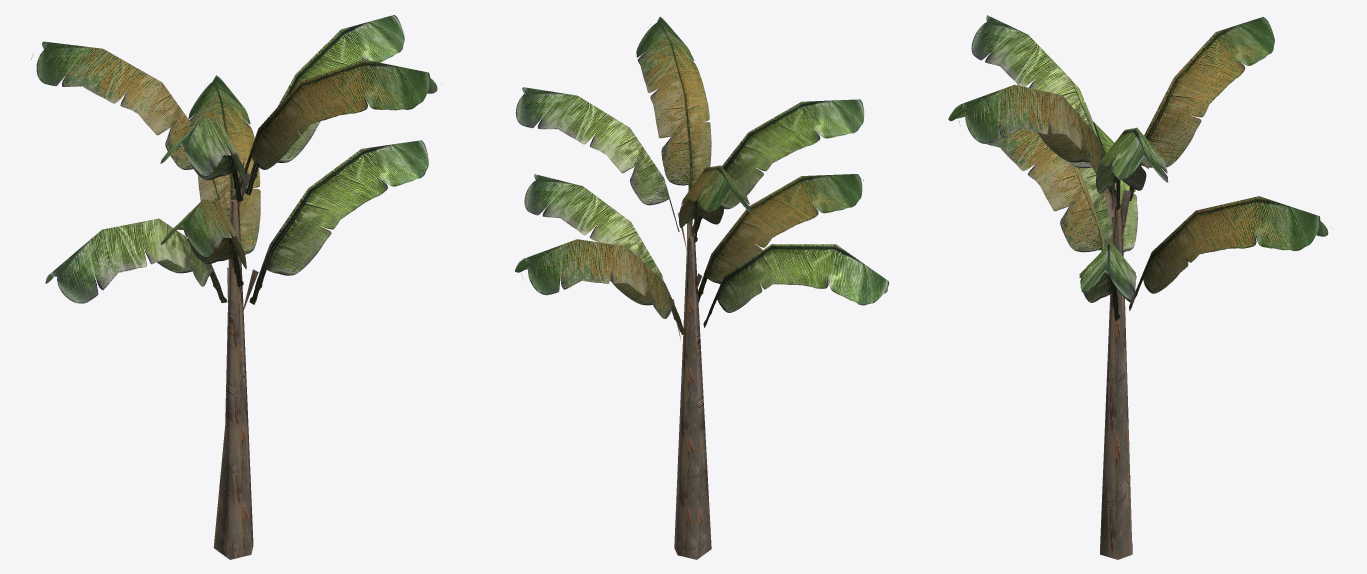
File: banana.glb
3 views of the same model, side by side, from view 1: azimuth 30°, elevation 25°; view 2: azimuth 150°, elevation 25°; view 3: azimuth 270°, elevation 25° (orthographic). The views are drawn at different scales.
Parts seen in each view (by area): view 1: banana; view 2: banana; view 3: banana.
Part boxes in pixels (x1,y1,x2,y2): banana: (31,15,437,559); banana: (515,17,889,559); banana: (948,15,1328,559).
Size of the model in its own units: 4.53 by 5.52 by 4.3.
Materials: 3 (3 with a texture image).
